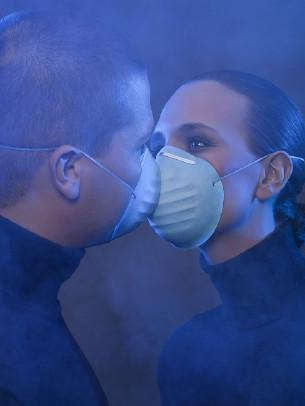OK: (27, 96, 173, 242), (145, 112, 283, 250)
